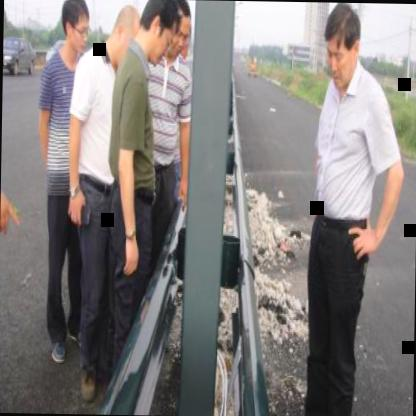head: (323, 2, 365, 90), (140, 0, 178, 65), (58, 0, 92, 63), (107, 1, 138, 59), (170, 0, 192, 55)
